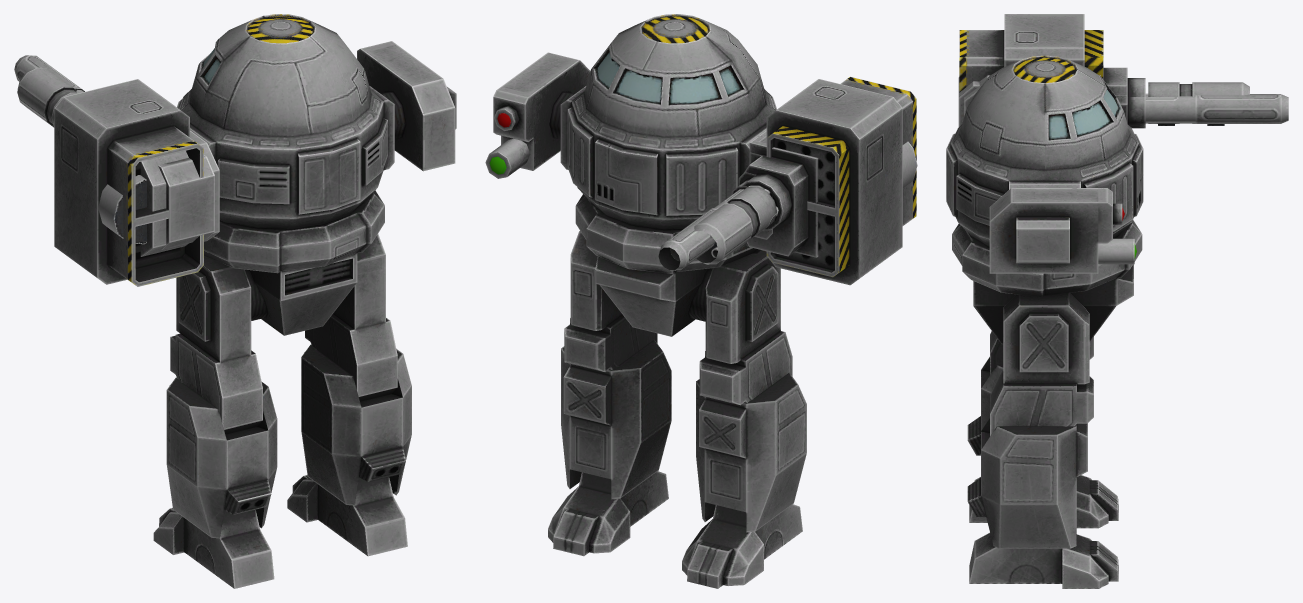
Rendered from Urbanmech.FBX.
3 views of the same model, side by side, from view 1: azimuth 30°, elevation 25°; view 2: azimuth 150°, elevation 25°; view 3: azimuth 270°, elevation 25° (orthographic). The views are drawn at different scales.
Parts seen in each view (by area): view 1: torso, rupperarm r68, pelvis, rlowerleg, llowerleg, rupperleg, lupperarm, lupperleg, lfoot, rfoot, rupperarm r70, rupperarm r60l (+2 smaller); view 2: torso, rupperarm r68, llowerleg, rlowerleg, rupperleg, pelvis, lupperarm, lfoot, rfoot, lupperleg, rupperarm r60l, barrel_1 (+3 smaller); view 3: torso, llowerleg, lupperleg, lupperarm, pelvis, rupperarm r68, lfoot, barrel_1 lbx10, rfoot, barrel_1, barrel ac10, rupperarm r60l (+4 smaller).
Part boxes in pixels (x1,y1,x2,y2): torso: (177,14,394,229); rupperarm r68: (54,79,203,286); pelvis: (204,190,384,335); rlowerleg: (166,377,277,538); llowerleg: (301,344,411,505); rupperleg: (170,256,262,434); lupperarm: (357,41,456,171); lupperleg: (305,233,397,401); lfoot: (287,475,407,556); rfoot: (153,508,274,588); rupperarm r70: (98,155,214,249); rupperarm r60l: (140,130,219,256); torso: (560,14,776,230); rupperarm r68: (766,76,916,285); llowerleg: (561,339,671,499); rlowerleg: (696,372,806,532); rupperleg: (699,250,792,405); pelvis: (575,194,760,336); lupperarm: (493,52,590,170); lfoot: (548,471,668,556); rfoot: (682,504,802,588); lupperleg: (564,231,657,371); rupperarm r60l: (741,130,818,257); barrel_1: (694,186,776,264); torso: (946,55,1143,247); llowerleg: (967,418,1087,548); lupperleg: (990,293,1093,435); lupperarm: (989,188,1124,273); pelvis: (952,220,1142,344); rupperarm r68: (959,14,1103,92); lfoot: (969,532,1118,588); barrel_1 lbx10: (1195,94,1288,123); rfoot: (969,475,1118,528); barrel_1: (1148,82,1249,123); barrel ac10: (1145,95,1195,123); rupperarm r60l: (964,67,1145,128).
Bounding box in the file's own units: 41.56 × 55.79 × 36.1.
Materials: 1 (1 with a texture image).
